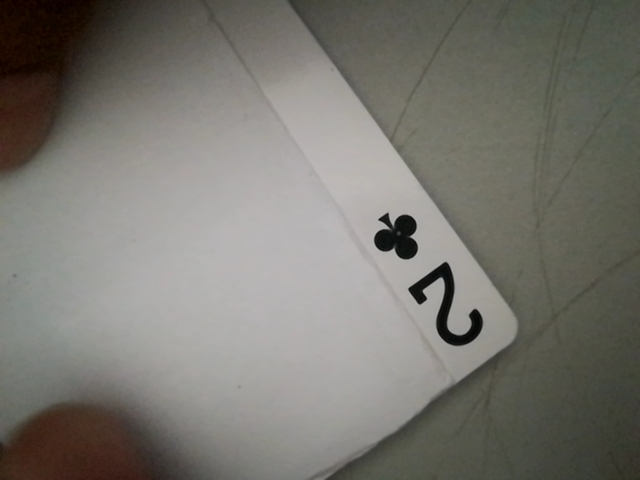mh 2: (361, 199, 492, 365)
